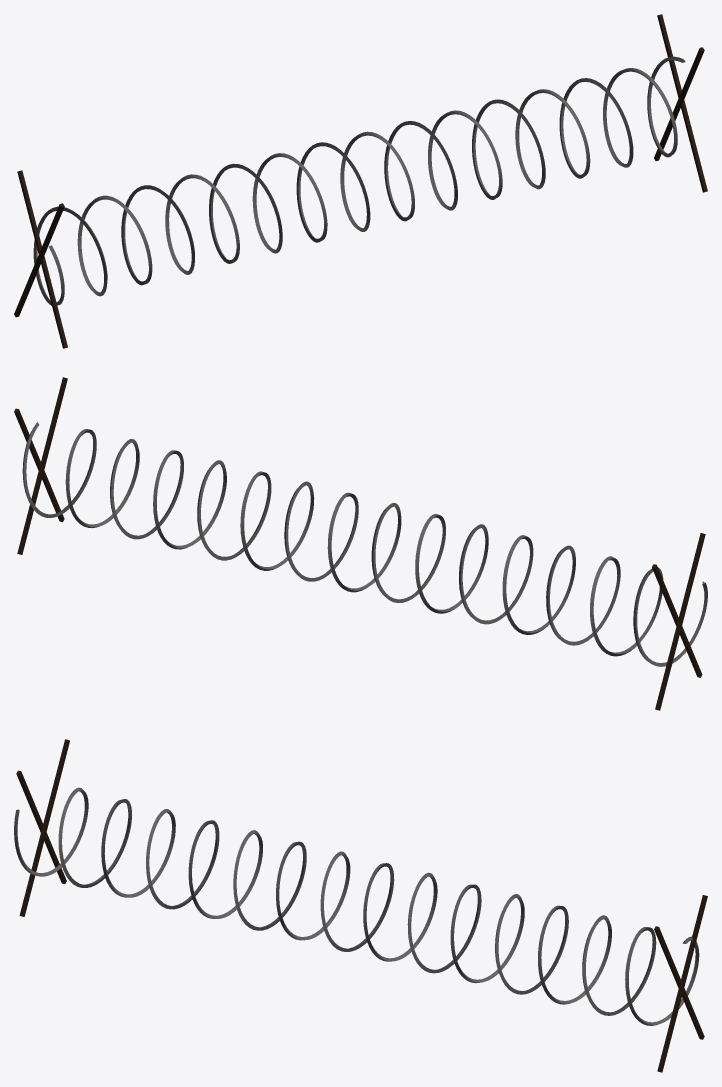
Rendered from SM_Barbwire.fbx.
3 renders of one model, top to bottom at view 1: azimuth 30°, elevation 25°; view 2: azimuth 150°, elevation 25°; view 3: azimuth 330°, elevation 25°, orthographic.
Parts seen in each view (by area): view 1: Box068barbwire; view 2: Box068barbwire; view 3: Box068barbwire.
Part boxes in pixels (<box>): Box068barbwire: <box>14,14,707,348</box>; Box068barbwire: <box>14,377,707,710</box>; Box068barbwire: <box>14,739,707,1072</box>.
Bounding box in the file's own units: 275 × 58.5 × 35.59.
